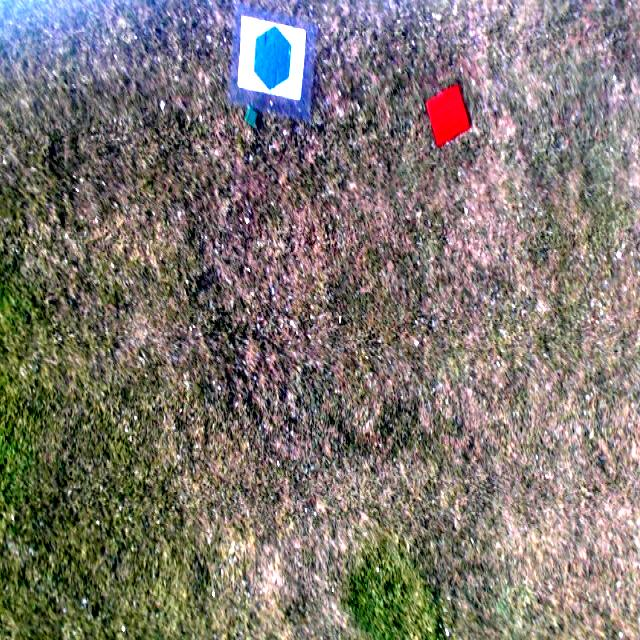blue_hexagon: (252, 21, 294, 96)
red_square: (421, 83, 477, 152)
